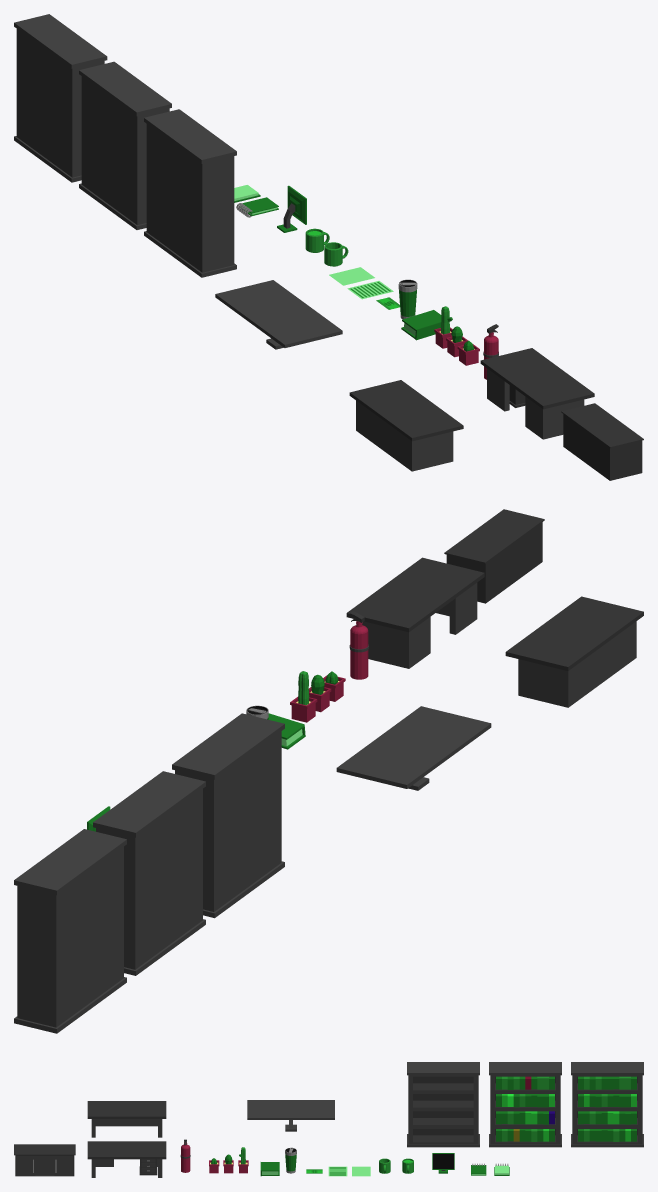
The model's file is moveis_luxo.fbx.
The picture shows the model from 3 angles, top to bottom: view 1: azimuth 30°, elevation 25°; view 2: azimuth 150°, elevation 25°; view 3: azimuth 270°, elevation 25°; orthographic projection. The views are drawn at different scales.
Parts seen in each view (by area): view 1: Estante, EstanteCor, EstanteSegredo.001, Mesa.001, Mesa, Mesa.002, EstantePequena, Livro, Monitor, CopoDArrombado; view 2: EstanteSegredo.001, Estante, EstanteCor, Mesa.001, Mesa, Mesa.002, EstantePequena, Extintor, VasoCacto3; view 3: Estante, EstanteCor, EstanteSegredo.001, Mesa.001, EstantePequena, Mesa.002, Mesa, Monitor, ArmarioPequeno, Extintor, CopoDArrombado, Livro (+4 smaller).
Part boxes in pixels (x1,y1,x2,y2): Estante: [144, 109, 236, 277]; EstanteCor: [79, 61, 171, 229]; EstanteSegredo.001: [14, 14, 107, 182]; Mesa.001: [349, 380, 463, 471]; Mesa: [480, 348, 594, 439]; Mesa.002: [215, 280, 342, 349]; EstantePequena: [561, 403, 643, 480]; Livro: [401, 310, 441, 340]; Monitor: [277, 185, 306, 232]; CopoDArrombado: [398, 279, 417, 319]; EstanteSegredo.001: [14, 829, 126, 1033]; Estante: [172, 713, 284, 918]; EstanteCor: [93, 771, 205, 975]; Mesa.001: [505, 596, 643, 707]; Mesa: [346, 557, 484, 668]; Mesa.002: [336, 706, 491, 790]; EstantePequena: [444, 509, 544, 603]; Extintor: [349, 611, 368, 679]; VasoCacto3: [290, 671, 317, 722]; Estante: [407, 1062, 479, 1147]; EstanteCor: [489, 1062, 561, 1147]; EstanteSegredo.001: [571, 1062, 643, 1147]; Mesa.001: [87, 1101, 166, 1137]; EstantePequena: [14, 1144, 75, 1176]; Mesa.002: [247, 1100, 334, 1131]; Mesa: [87, 1141, 166, 1177]; Monitor: [432, 1153, 454, 1173]; ArmarioPequeno: [139, 1159, 157, 1175]; Extintor: [180, 1139, 190, 1172]; CopoDArrombado: [285, 1147, 296, 1173]; Livro: [260, 1162, 279, 1176].
Size of the model in its own units: 1140 by 712 by 5375.
